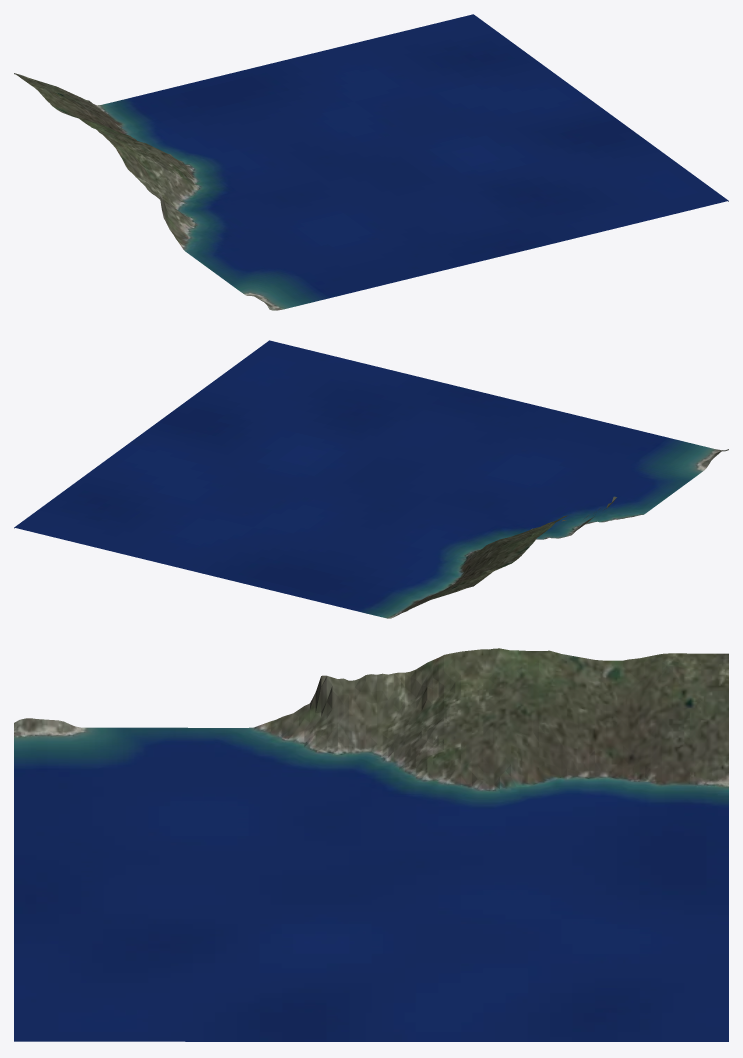
3 renders of one model, top to bottom at view 1: azimuth 30°, elevation 25°; view 2: azimuth 150°, elevation 25°; view 3: azimuth 270°, elevation 25°, orthographic. The views are drawn at different scales.
Size of the model in its own units: 500 by 60.3 by 481.
Materials: 1 (1 with a texture image).
